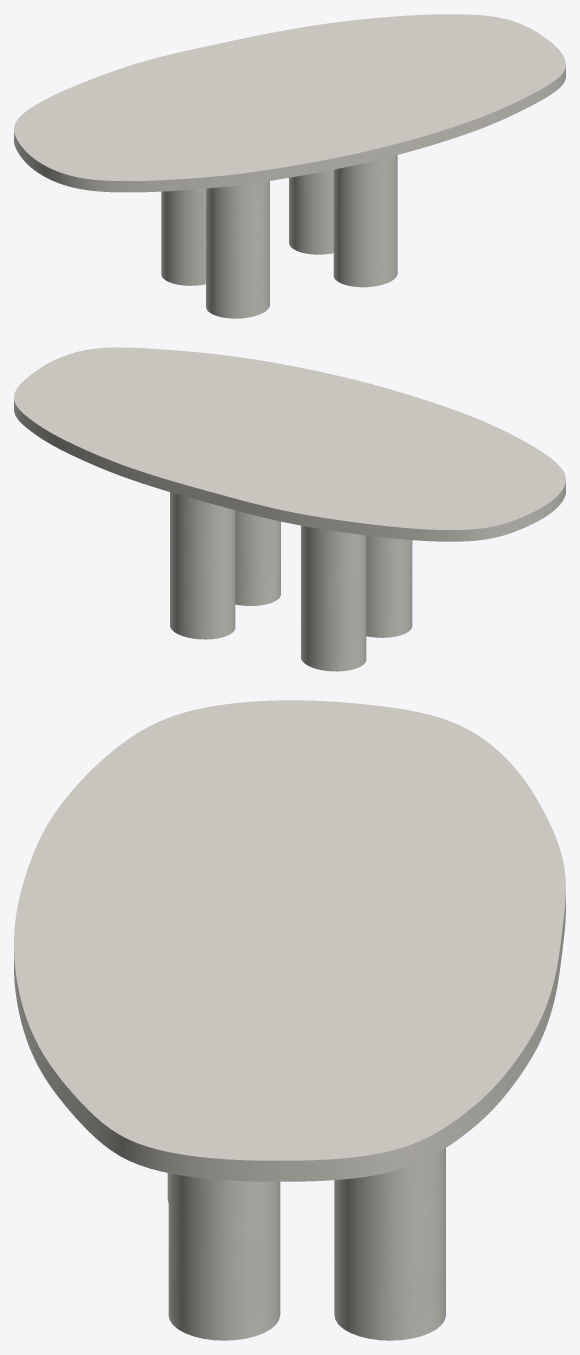
Rendered from pale_danish_standard_grove.glb.
The picture shows the model from 3 angles, top to bottom: view 1: azimuth 30°, elevation 25°; view 2: azimuth 150°, elevation 25°; view 3: azimuth 270°, elevation 25°; orthographic projection. The views are drawn at different scales.
Parts seen in each view (by area): view 1: standard_danish, grove; view 2: standard_danish, grove; view 3: standard_danish, grove.
Part boxes in pixels (x1=…): standard_danish: x1=14, y1=14, x2=565, y2=192; grove: x1=161, y1=155, x2=397, y2=318; standard_danish: x1=14, y1=347, x2=565, y2=541; grove: x1=170, y1=492, x2=412, y2=671; standard_danish: x1=14, y1=700, x2=565, y2=1181; grove: x1=167, y1=1148, x2=445, y2=1340.
Bounding box in the file's own units: 7.5 × 2.51 × 3.8.
1 material, 1 textured.
